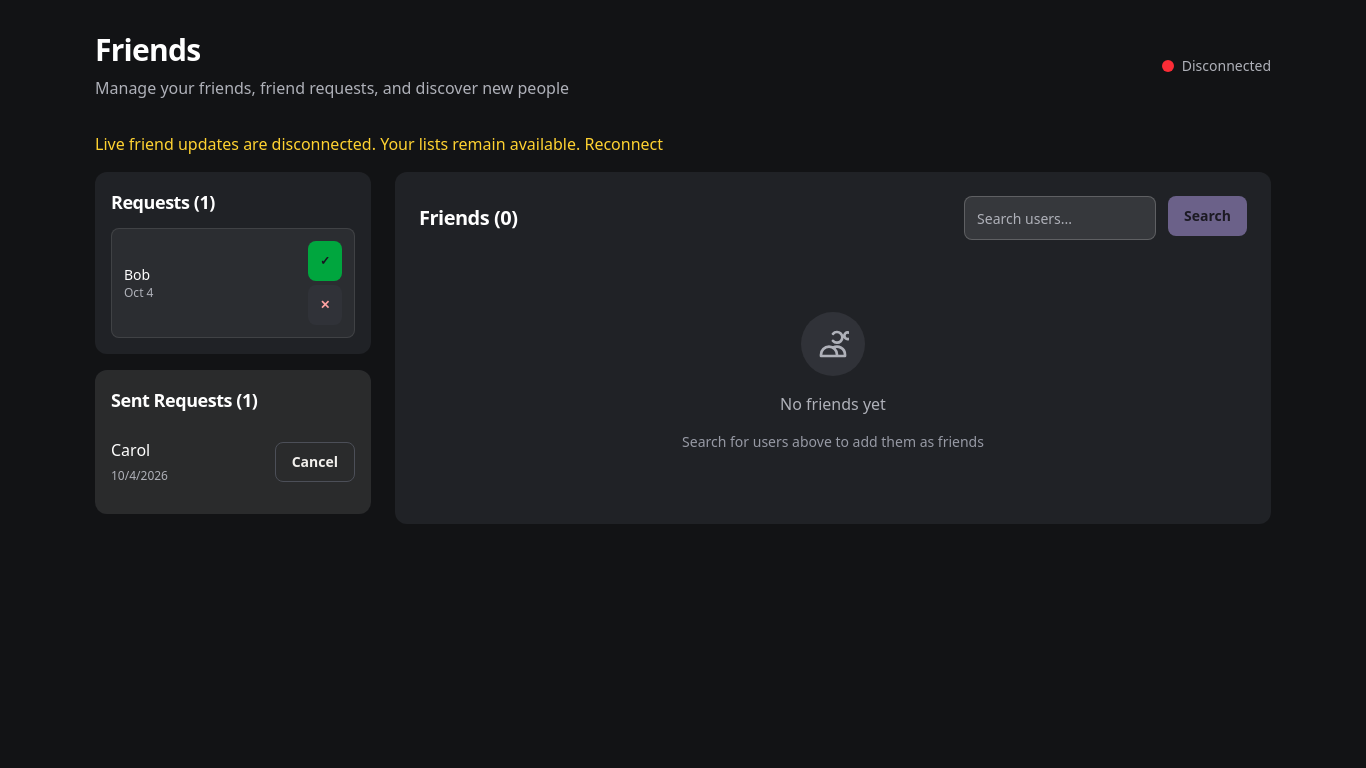
Test: friend request UI transitions without an own realtime echo › keeps a retained search card disabled after a live incoming request is accepted
Step 1. Type "Bob" into the field labelled "Search users..." → (1060, 218), box [964,196,1156,240]
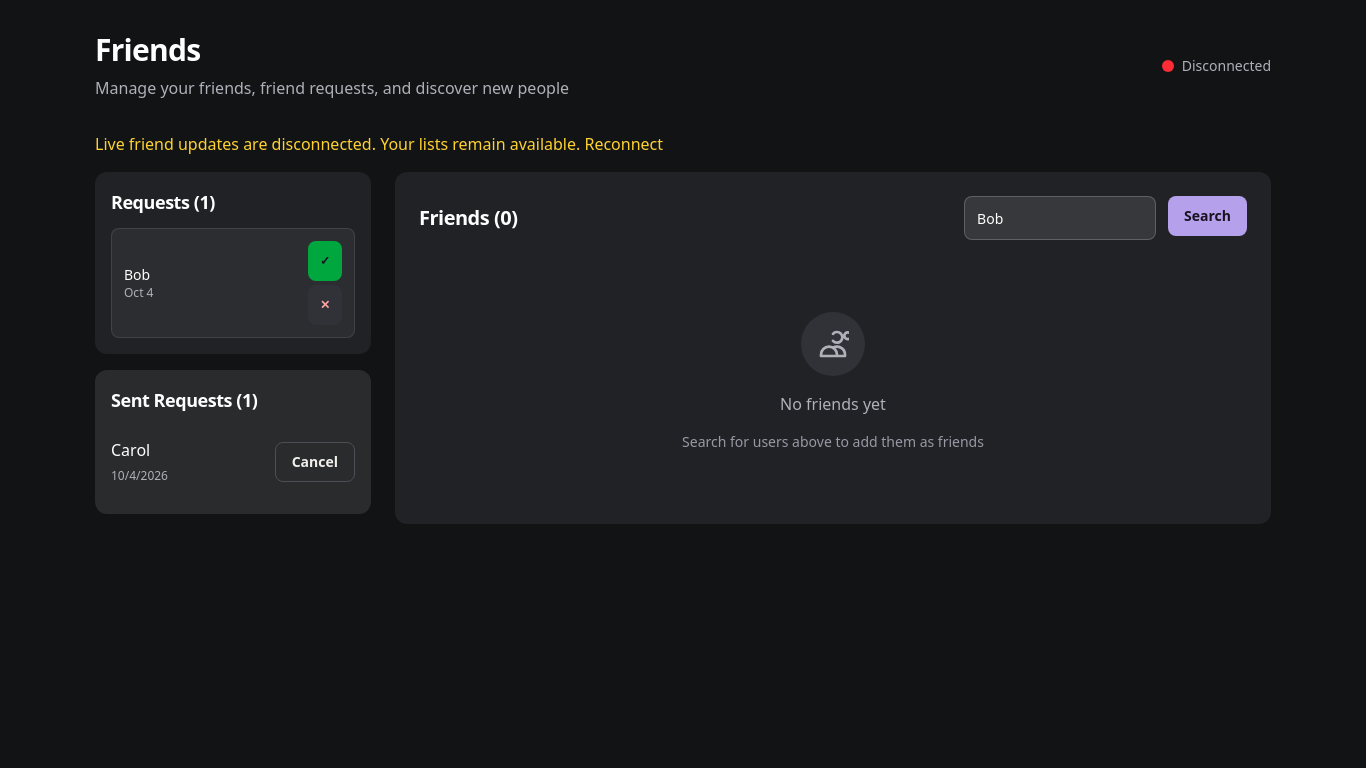
Step 2. Click the button "Search" → click(1208, 216), box [1168,196,1247,236]
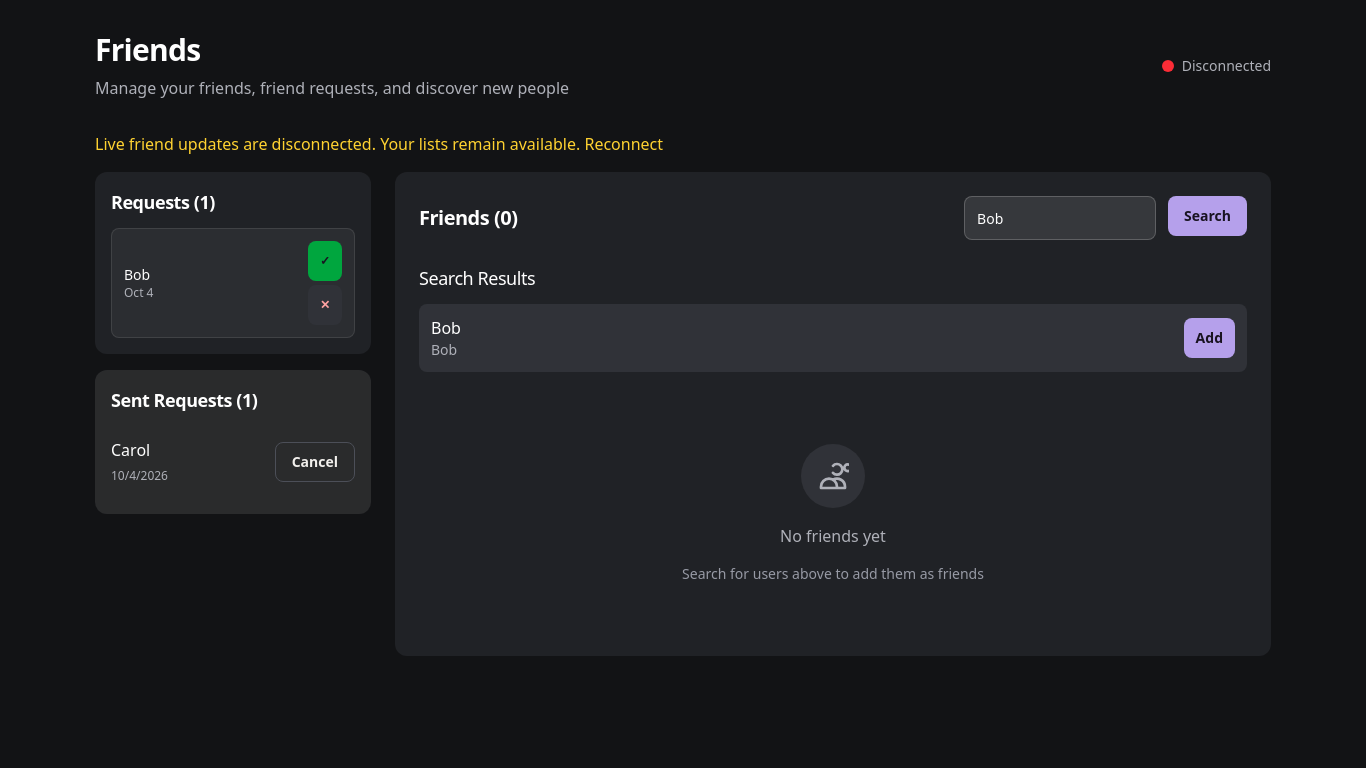
Expected: the heading "Search Results" is shown, [419,266,535,290]
Step 3. Click the button named "Accept friend request from Bob" → click(325, 261), box [308,241,342,281]
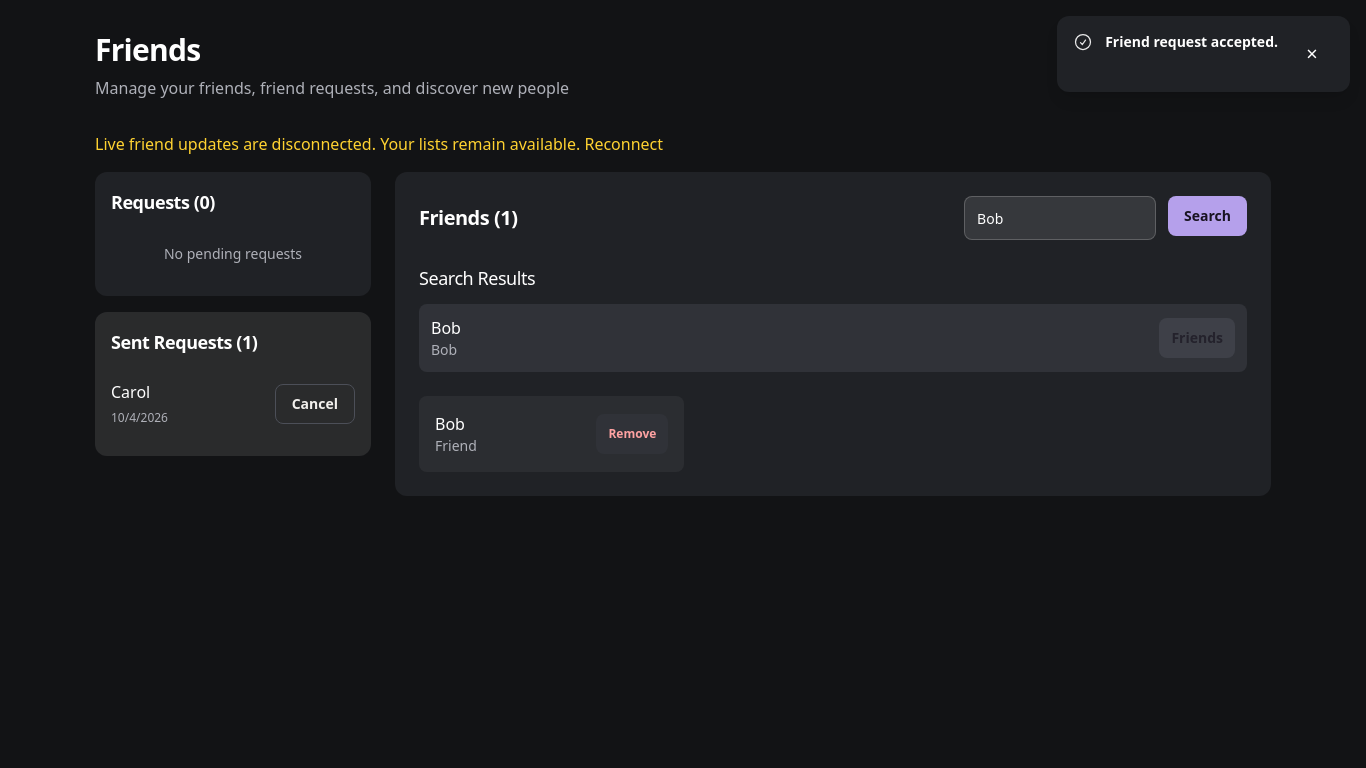
Expected: the button "Friends" is disabled, [1159,318,1235,358]
Expected: the button "Add" is gone
